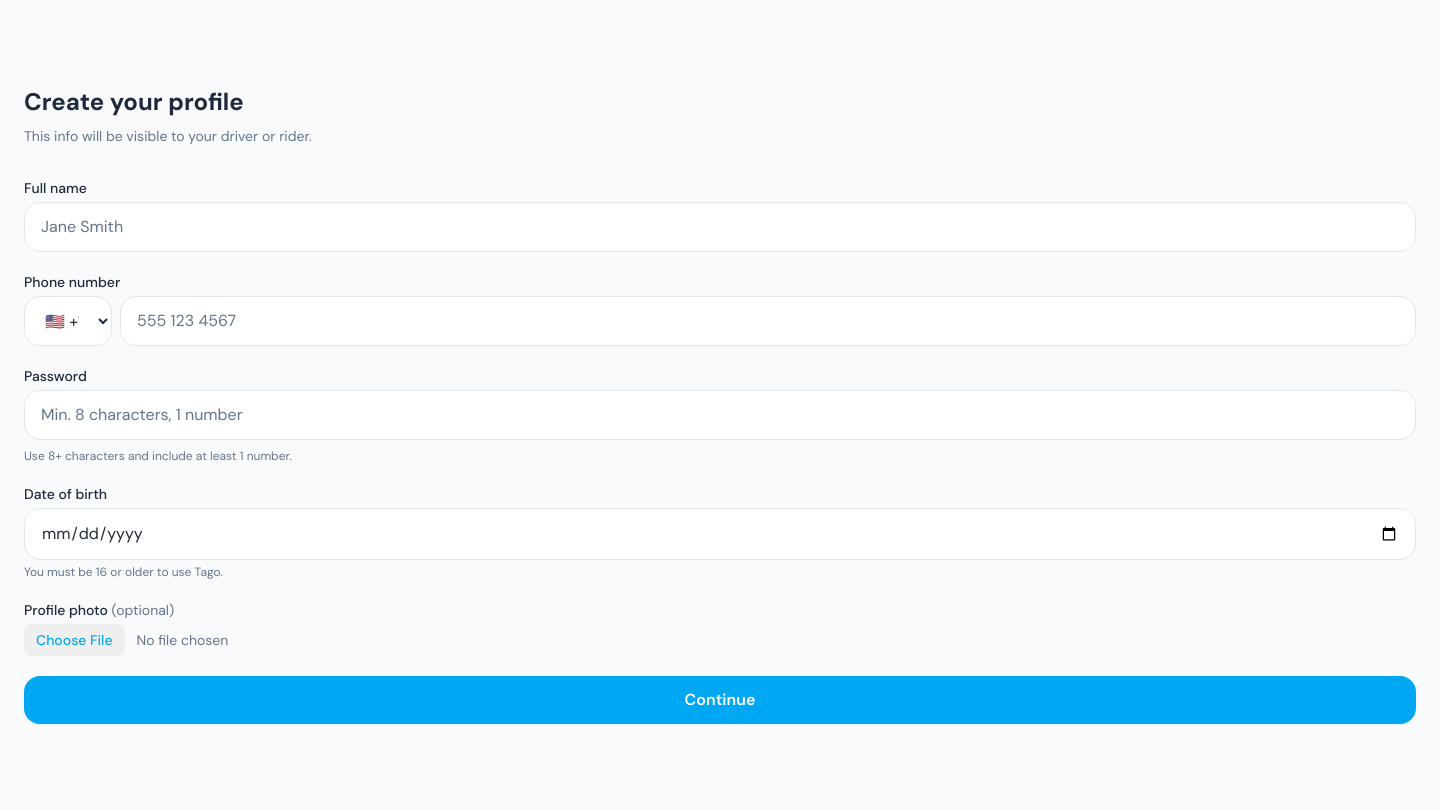
Test: phone validation — in component › shows error when local phone is empty (combined E.164 is just the dial code)
Type "Jane" into the field with test id "full-name-input" at (720, 227), box [24, 202, 1416, 252]
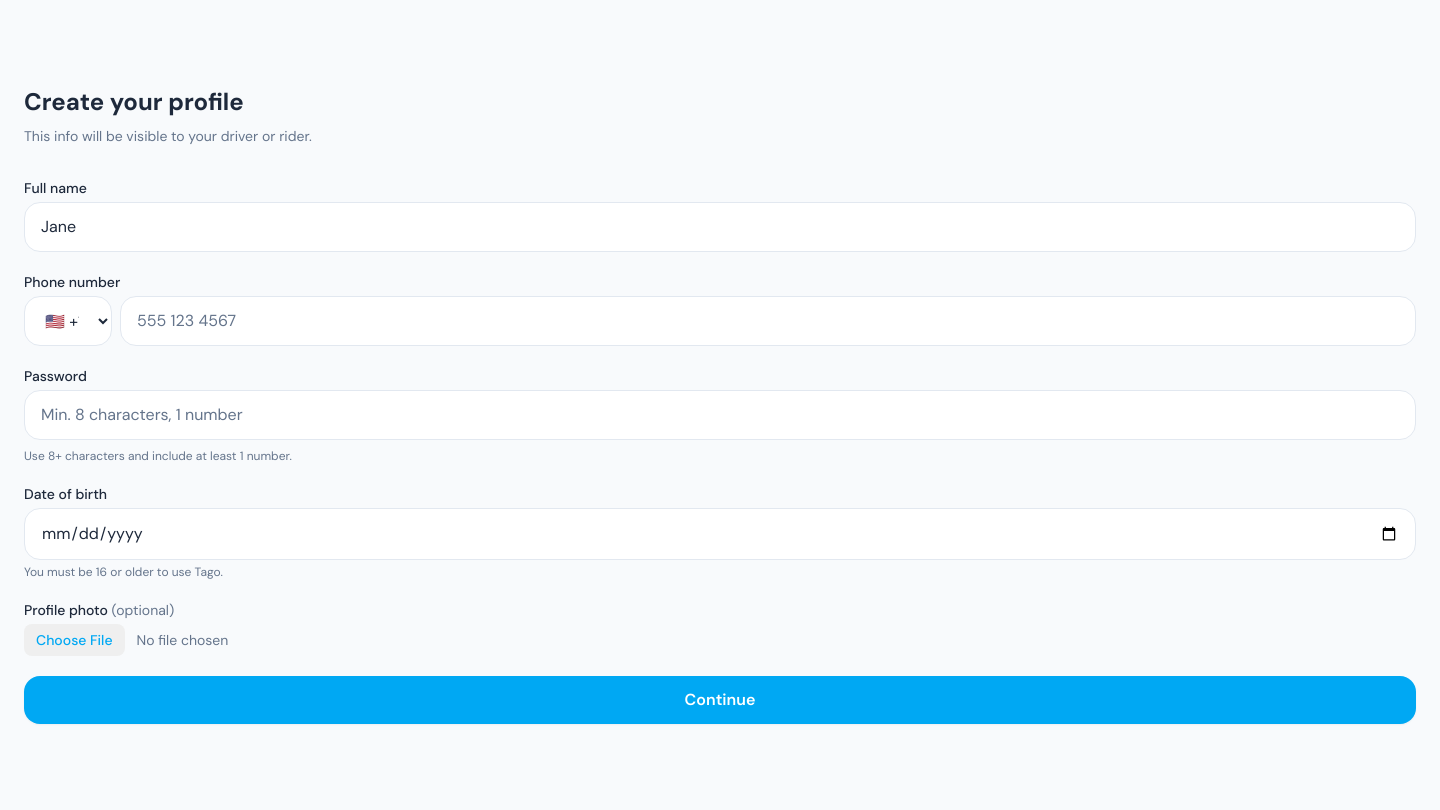
Type "Password1" into the password field with test id "password-input" at (720, 415), box [24, 390, 1416, 440]
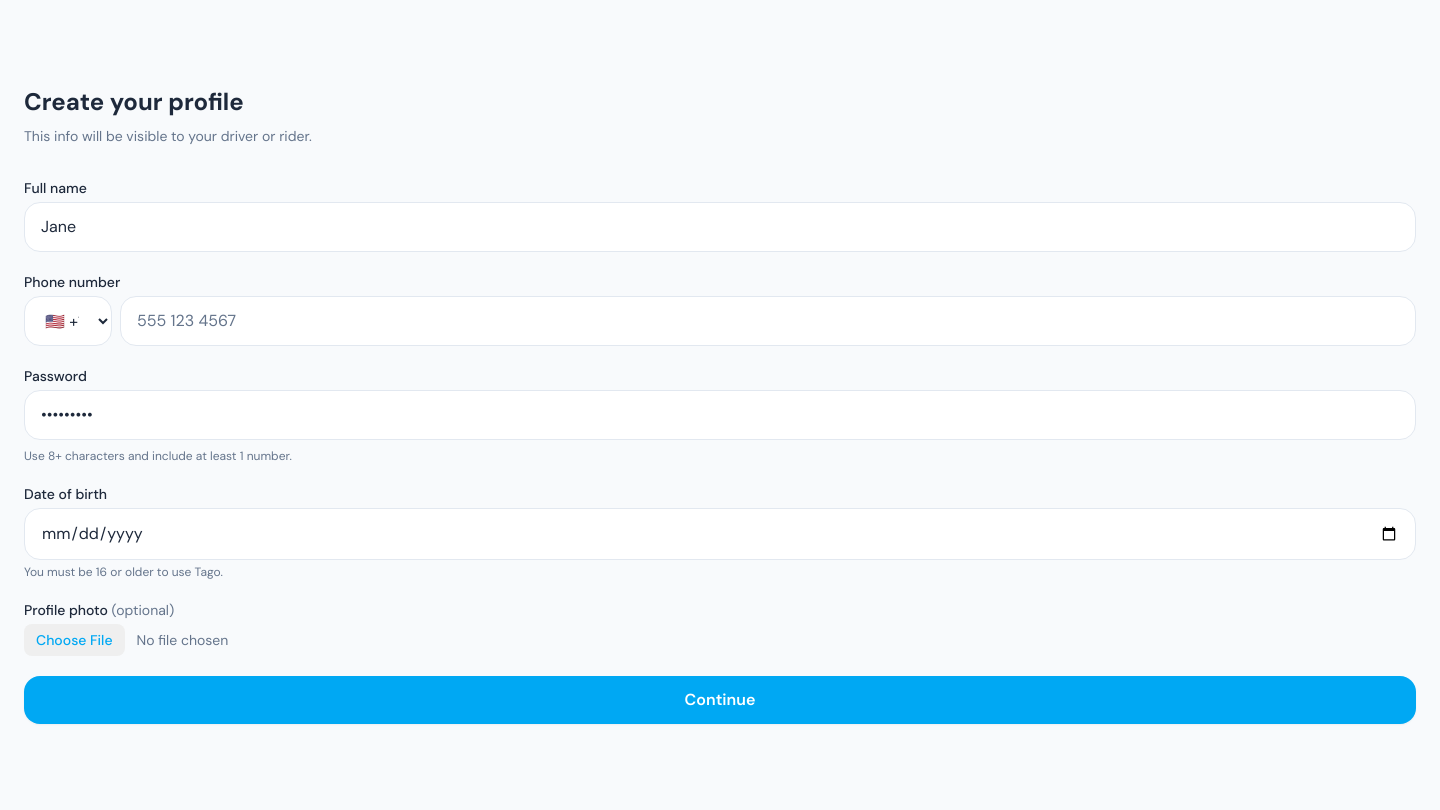
Type "2000-01-15" into the date field with test id "dob-input" at (720, 534), box [24, 508, 1416, 560]
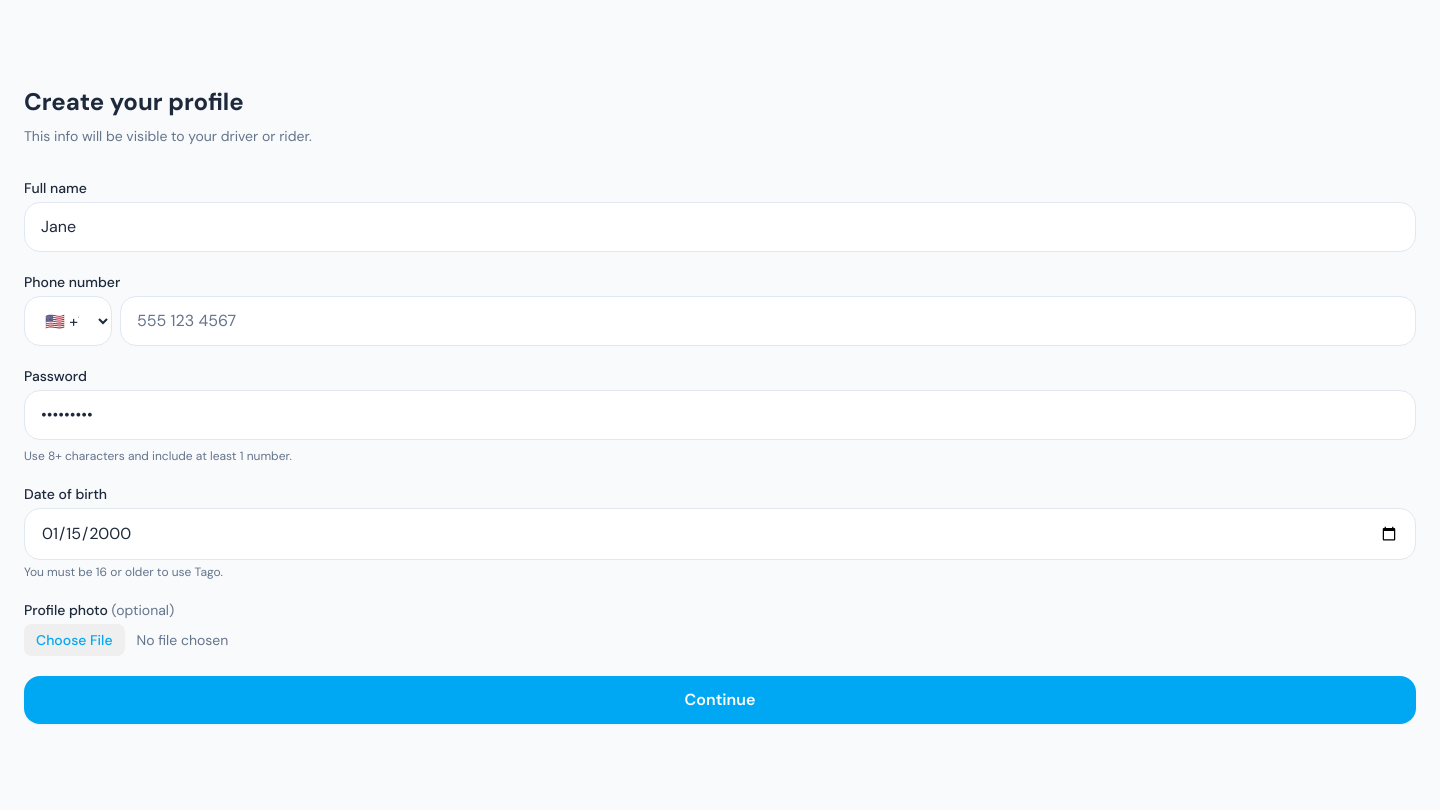
Click the button with test id "submit-button" at (720, 700), box [24, 676, 1416, 724]
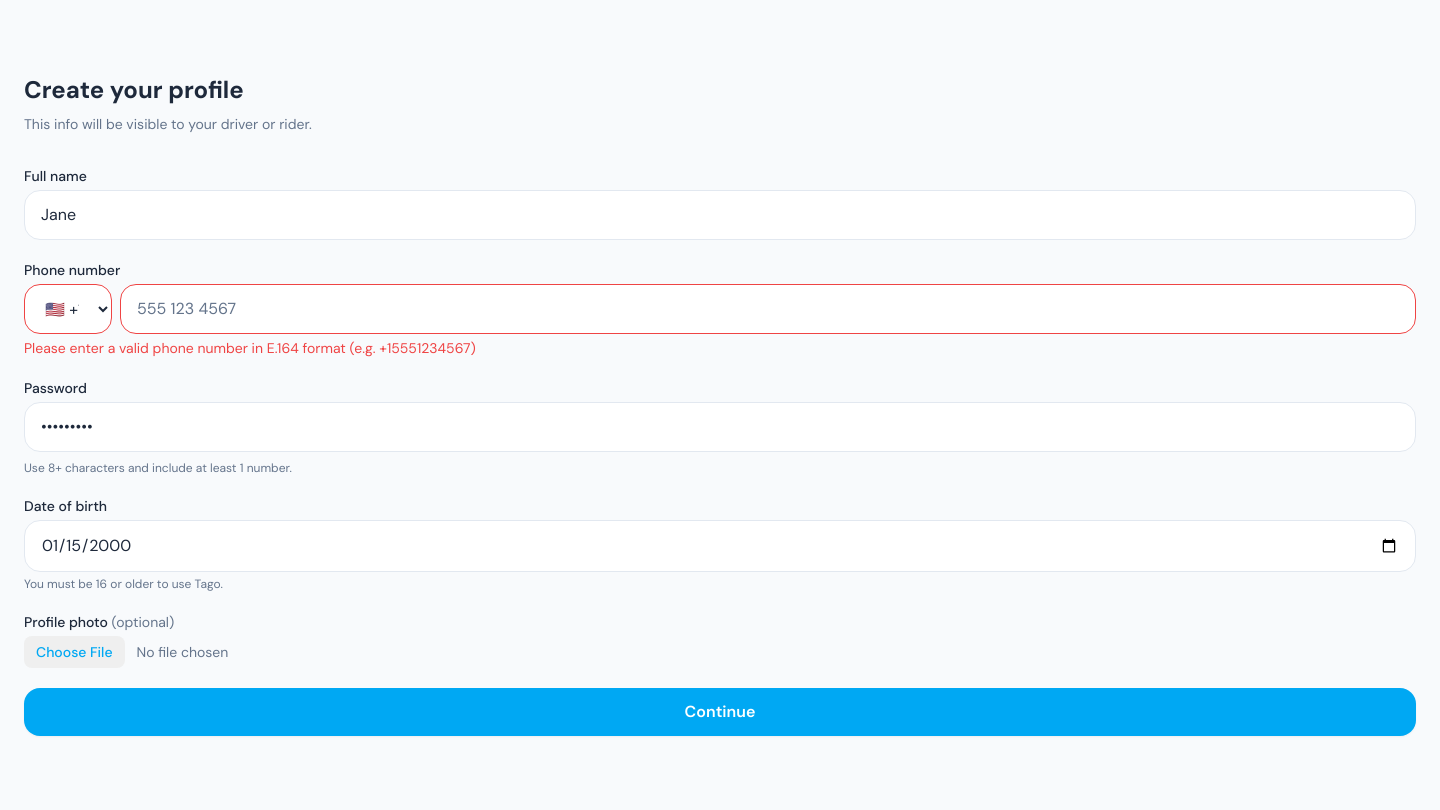
Expected: the message "Please enter a valid phone number in E.164 format (e.g. +15551234567)" is shown, [24, 339, 476, 357]
